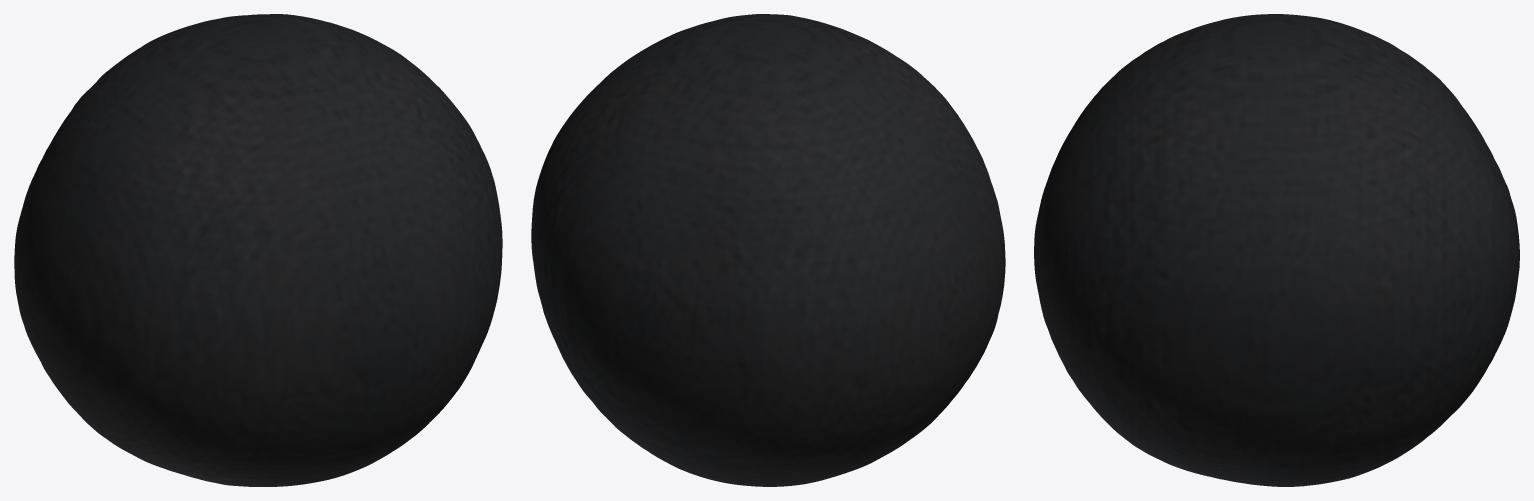
Rendered from 410894492e8d_a_round_cannonball_.fbx.
The picture shows the model from 3 angles, left to right: view 1: azimuth 30°, elevation 25°; view 2: azimuth 150°, elevation 25°; view 3: azimuth 270°, elevation 25°; orthographic projection. The views are drawn at different scales.
Visible parts, largest first — view 1: high_poly; view 2: high_poly; view 3: high_poly.
Boxes of the visible parts, x1,y1,x2,y2 form: high_poly: [14, 14, 502, 486]; high_poly: [531, 14, 1005, 486]; high_poly: [1034, 14, 1519, 486].
Bounding box in the file's own units: 100 × 96.11 × 99.56.
